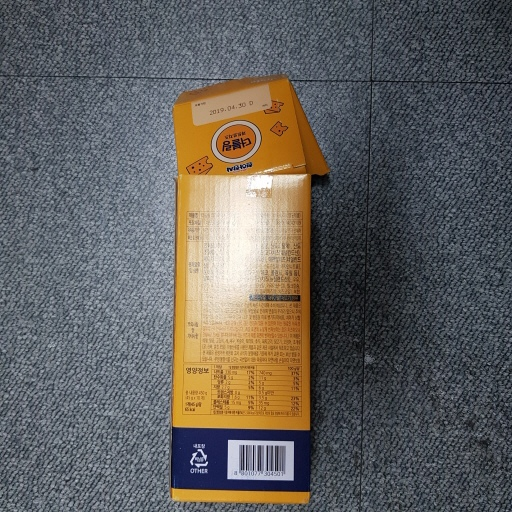Paper_0: (157, 69, 341, 512)
